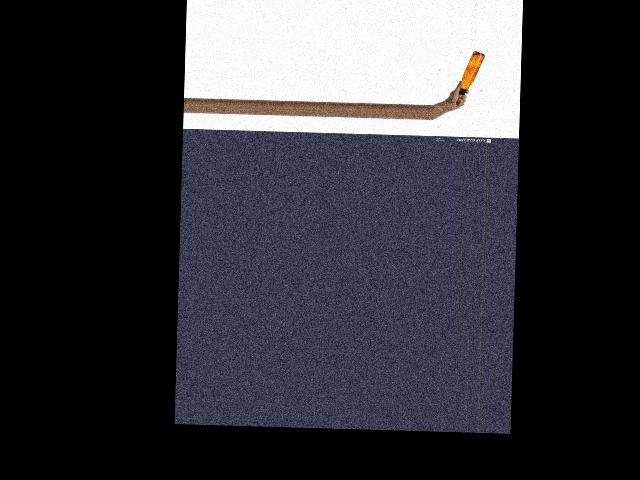beer: (456, 49, 484, 104)
